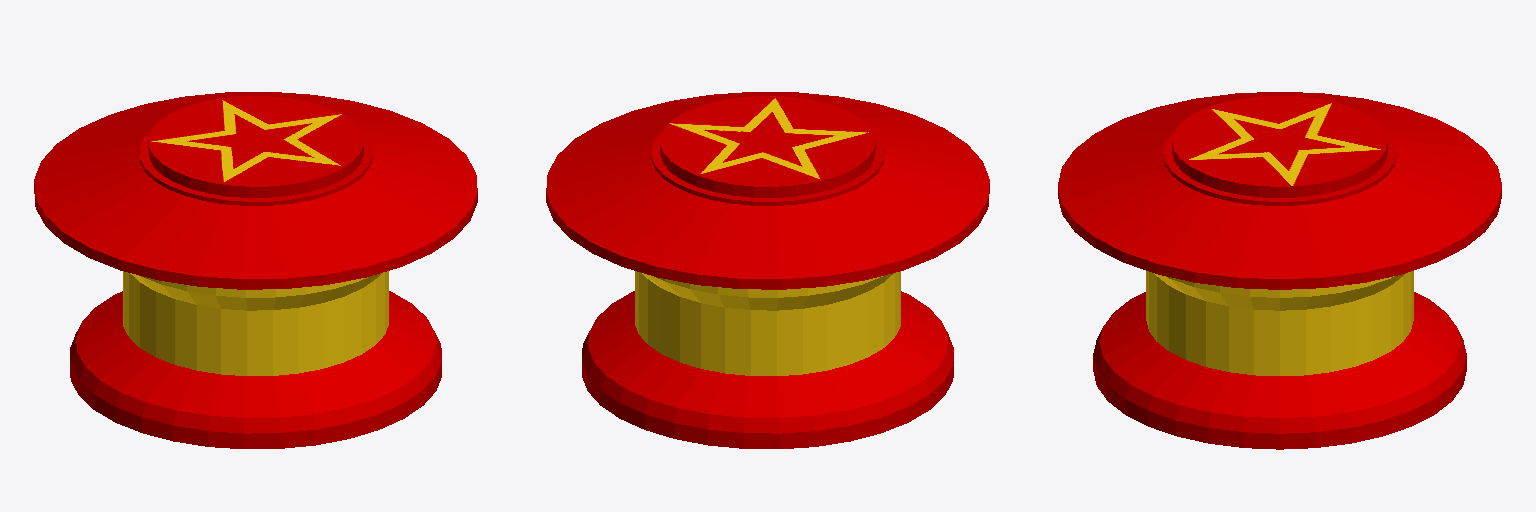
3 views of the same model, side by side, from view 1: azimuth 30°, elevation 25°; view 2: azimuth 150°, elevation 25°; view 3: azimuth 270°, elevation 25° (orthographic).
Visible parts, largest first — view 1: Cylinder_Cylinder.001; view 2: Cylinder_Cylinder.001; view 3: Cylinder_Cylinder.001.
Boxes of the visible parts, x1=… form: Cylinder_Cylinder.001: x1=34, y1=92, x2=477, y2=448; Cylinder_Cylinder.001: x1=546, y1=92, x2=989, y2=448; Cylinder_Cylinder.001: x1=1058, y1=92, x2=1501, y2=449.
Size of the model in its own units: 3.14 by 1.79 by 3.14.
Materials: 1 (1 with a texture image).